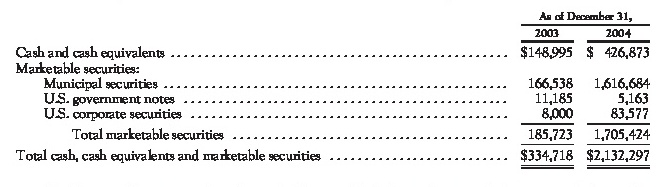table: (0, 0, 670, 187)
